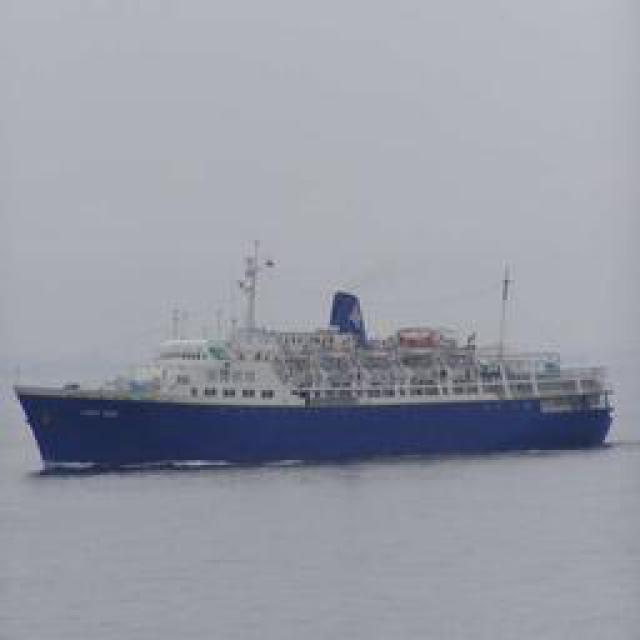Ship: (15, 263, 620, 468)
